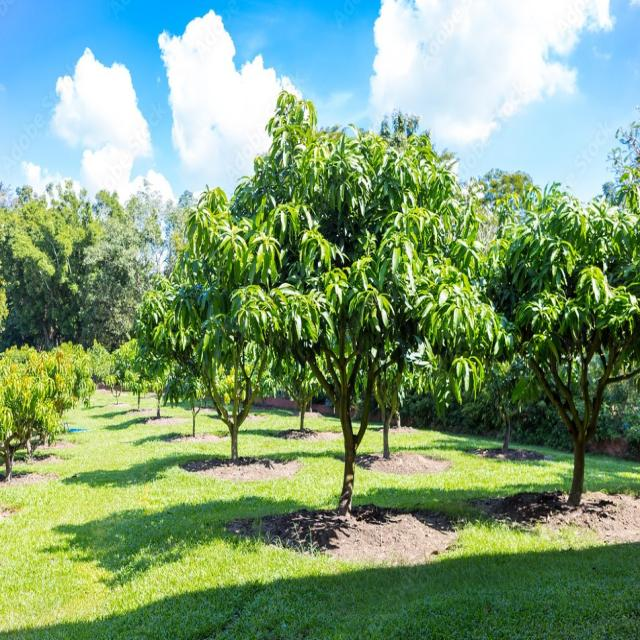Mango-Tree: (213, 137, 492, 504), (490, 173, 627, 513), (171, 215, 273, 456), (167, 290, 221, 442)
